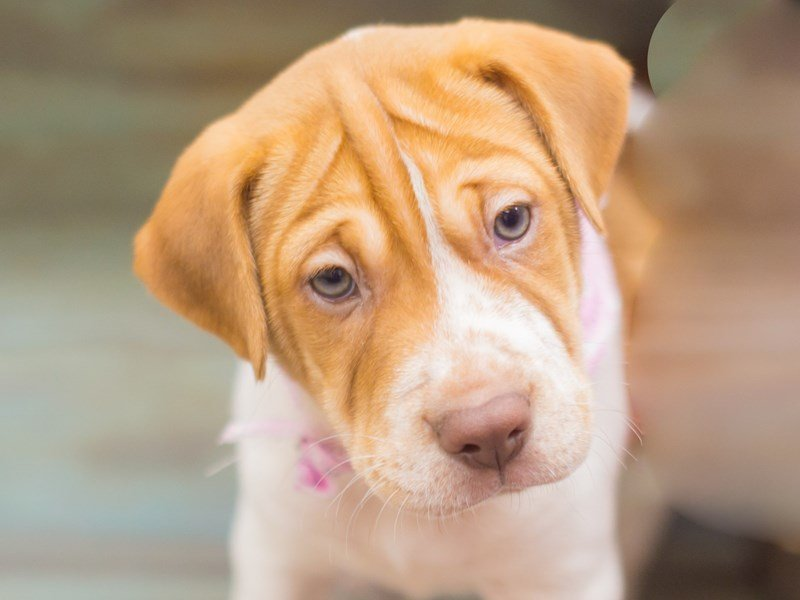dog: (130, 19, 662, 600)
